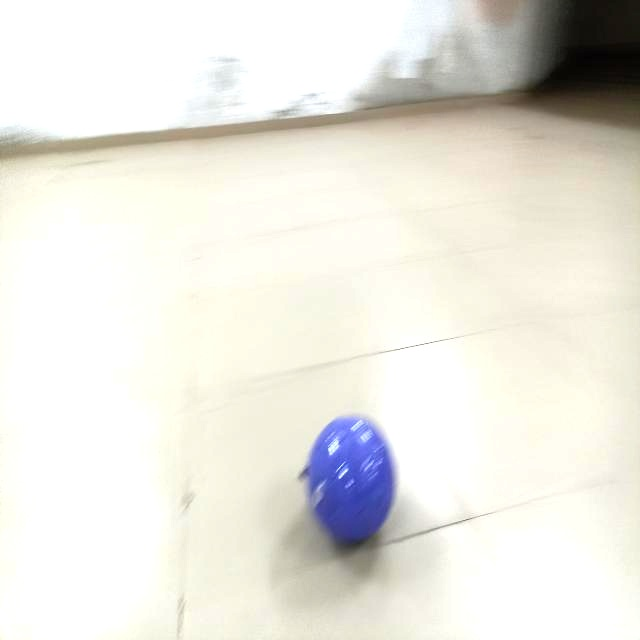purple_ball: (302, 413, 398, 543)
